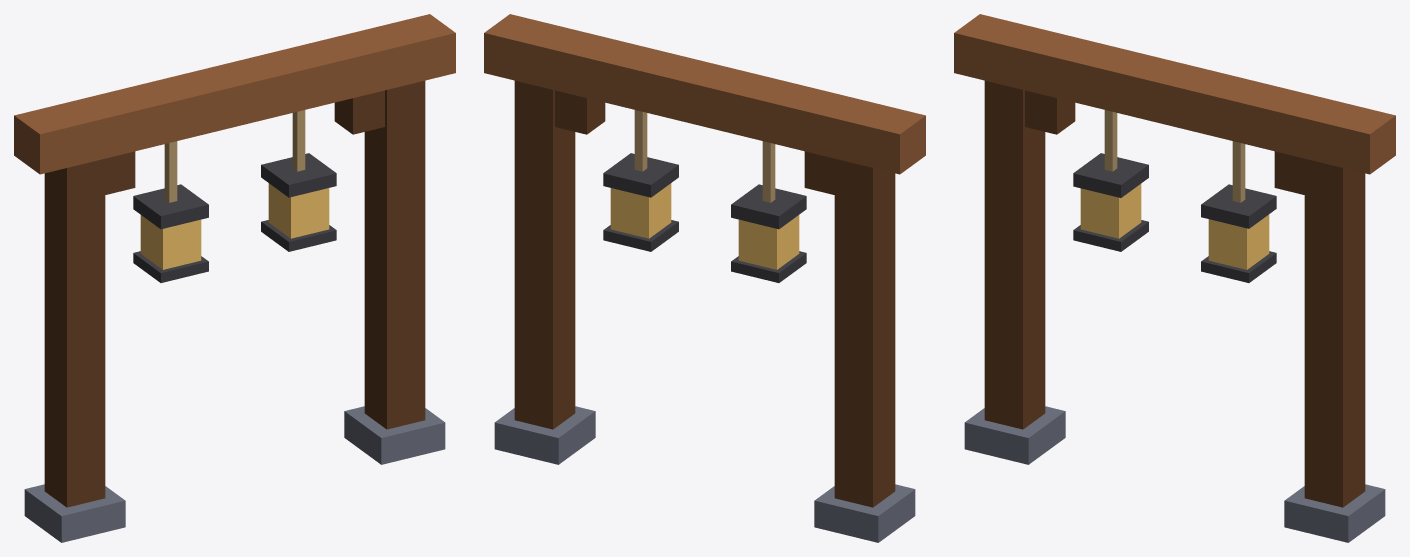
The model's file is WoodFrame.obj.
3 views of the same model, side by side, from view 1: azimuth 30°, elevation 25°; view 2: azimuth 150°, elevation 25°; view 3: azimuth 330°, elevation 25° (orthographic).
Visible parts, largest first — view 1: WoodFrame; view 2: WoodFrame; view 3: WoodFrame.
Part boxes in pixels (<box>): WoodFrame: <box>14,14,455,542</box>; WoodFrame: <box>484,14,925,542</box>; WoodFrame: <box>954,14,1395,542</box>.
Bounding box in the file's own units: 13 × 12.2 × 2.
